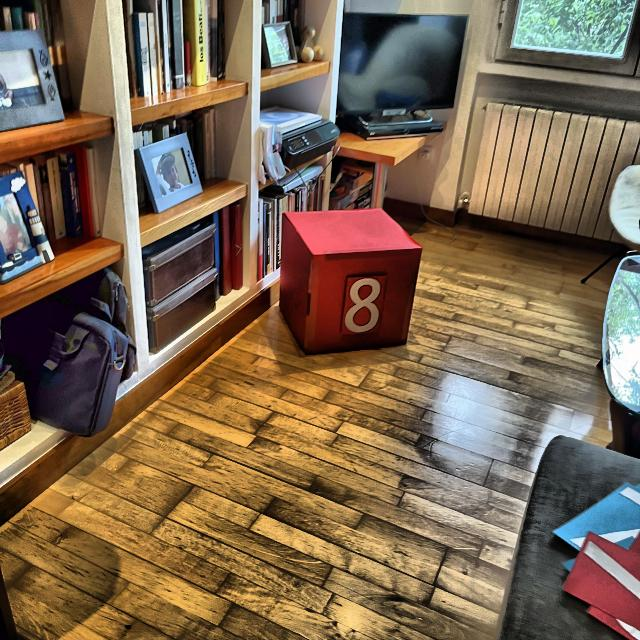eight: (344, 278, 380, 334)
red box: (284, 210, 422, 354)
